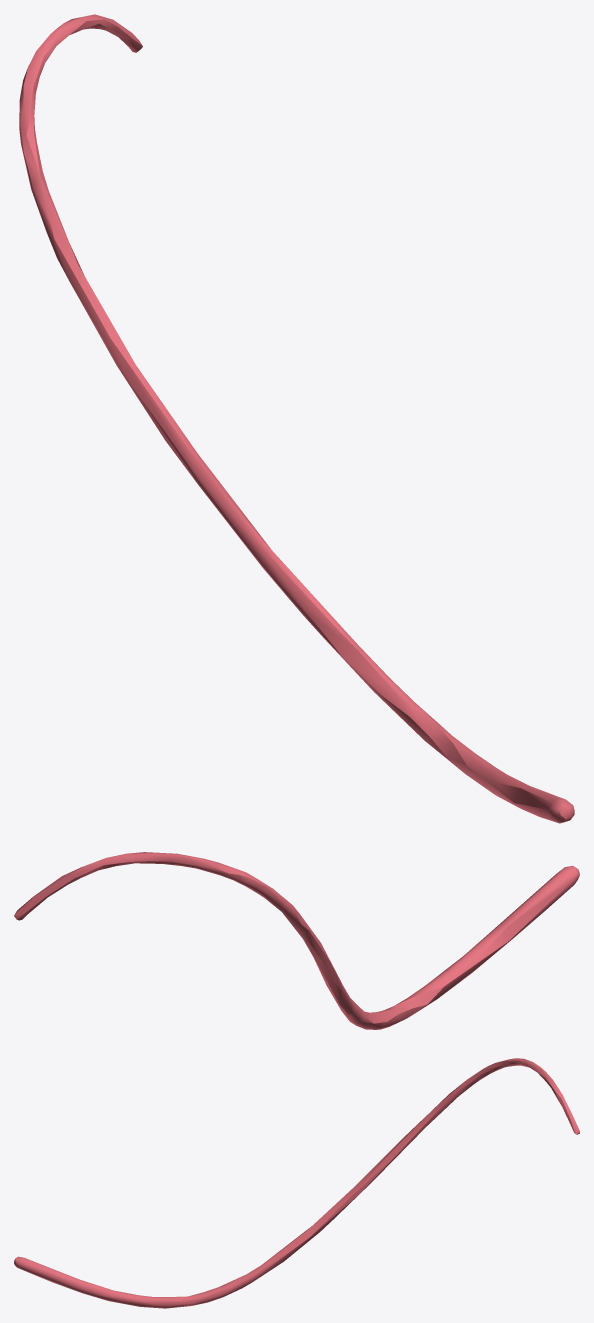
The model's file is fma75971_fj5182.glb.
3 renders of one model, top to bottom at view 1: azimuth 30°, elevation 25°; view 2: azimuth 150°, elevation 25°; view 3: azimuth 270°, elevation 25°, orthographic. The views are drawn at different scales.
Visible parts, largest first — view 1: FMA75971_FJ5182; view 2: FMA75971_FJ5182; view 3: FMA75971_FJ5182.
Part boxes in pixels (left/top/right/bottom): FMA75971_FJ5182: left=19, top=14, right=574, bottom=823; FMA75971_FJ5182: left=14, top=852, right=579, bottom=1029; FMA75971_FJ5182: left=14, top=1058, right=579, bottom=1308.
Size of the model in its own units: 0.00583 by 0.0118 by 0.0256.
